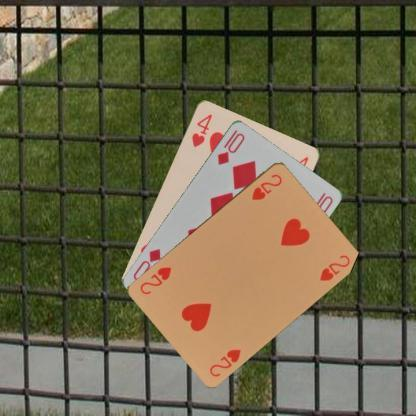10d: (214, 126, 246, 166)
2h: (207, 346, 243, 378), (249, 171, 284, 202)
4h: (188, 111, 214, 148)
